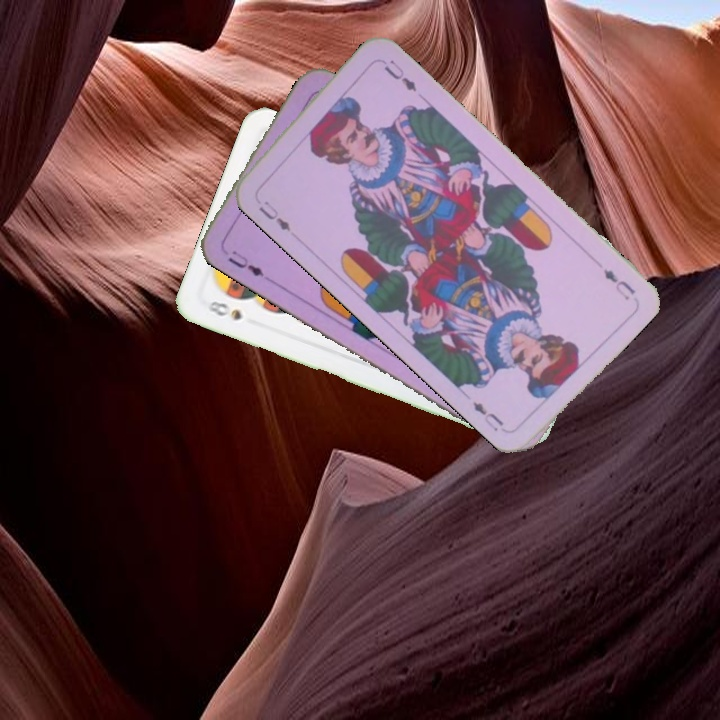EU: (223, 245, 267, 280), (599, 265, 638, 304), (255, 196, 294, 234)
S8: (202, 296, 245, 323)
